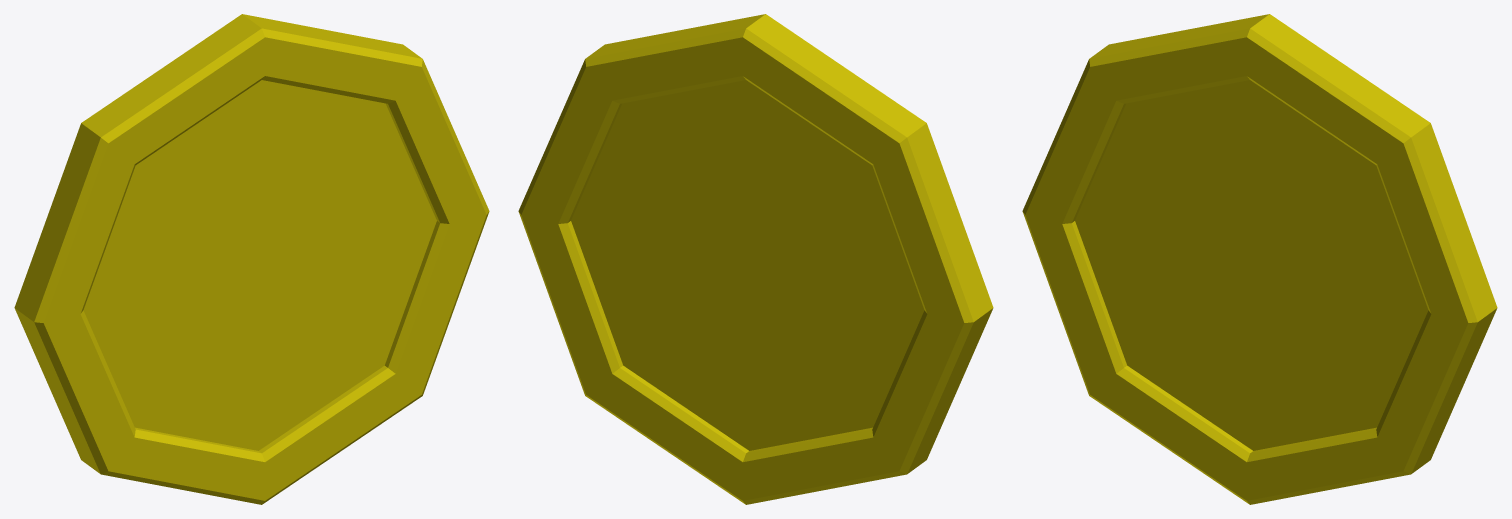
The model's file is coinPickup01.fbx.
3 views of the same model, side by side, from view 1: azimuth 30°, elevation 25°; view 2: azimuth 150°, elevation 25°; view 3: azimuth 330°, elevation 25° (orthographic).
Parts seen in each view (by area): view 1: coin01; view 2: coin01; view 3: coin01.
Boxes of the visible parts, x1=… form: coin01: x1=14, y1=14, x2=489, y2=504; coin01: x1=518, y1=14, x2=993, y2=504; coin01: x1=1022, y1=14, x2=1497, y2=504.
Size of the model in its own units: 80 by 80 by 8.
